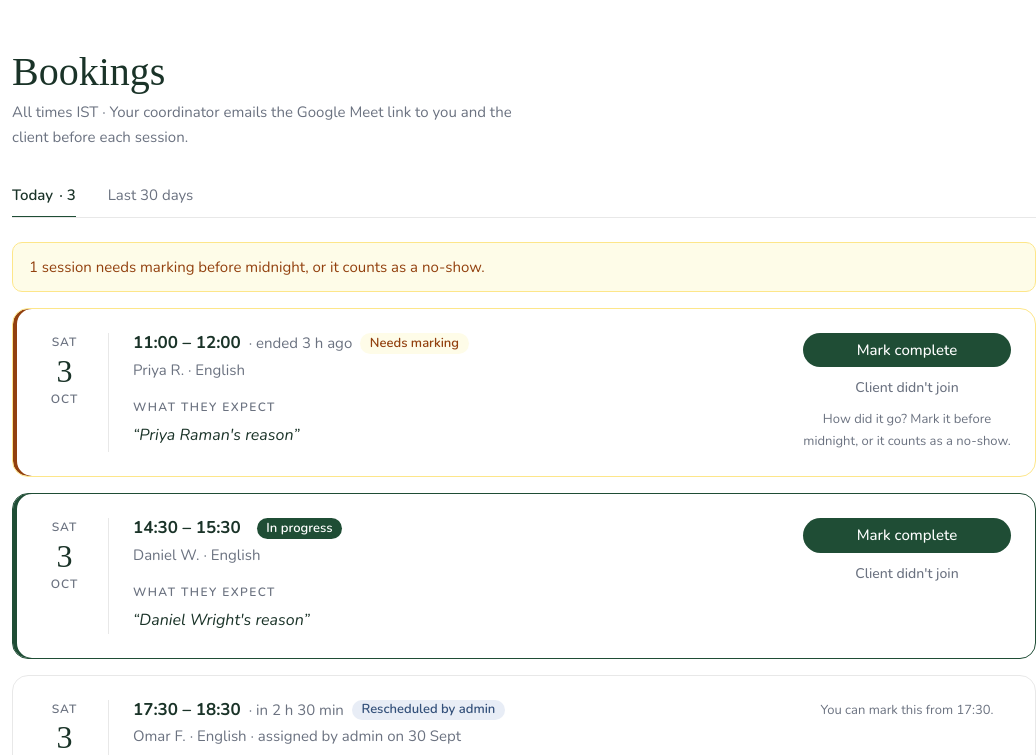
Test: BookingsPageComponent › records a client who did not join
The image size is (1036, 755).
Click the button with class "booking__no-show" in the row of "Priya R. · English".
click(907, 388)  # box [803,371,1011,405]
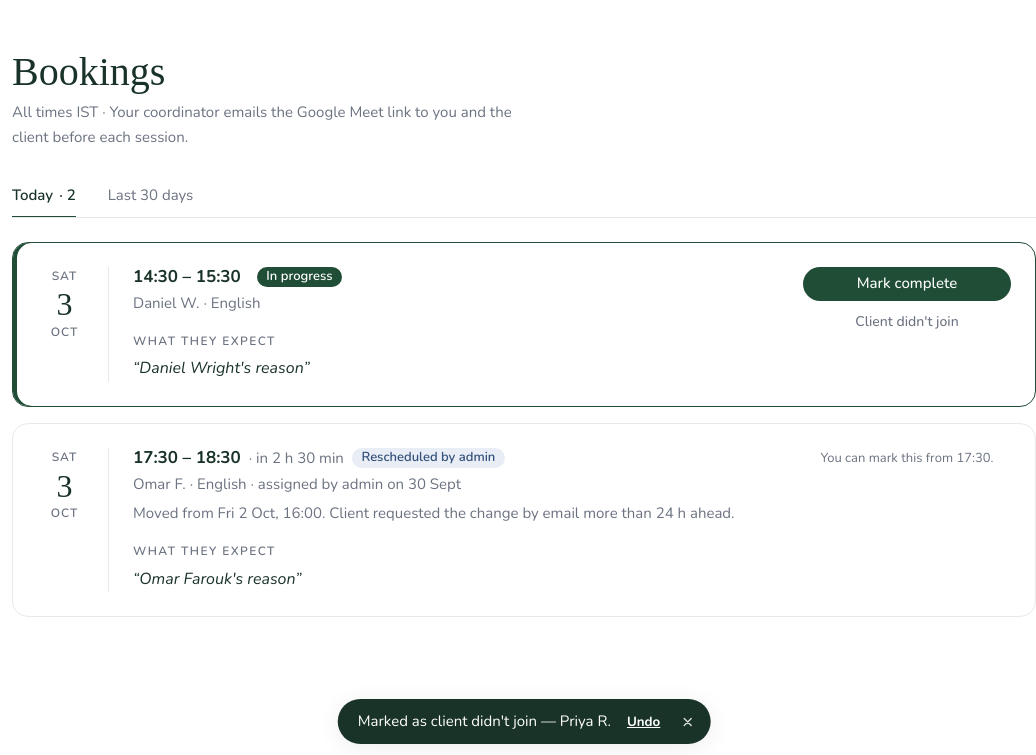
Click the tab "Last 30 days".
click(150, 196)  # box [108,174,193,218]
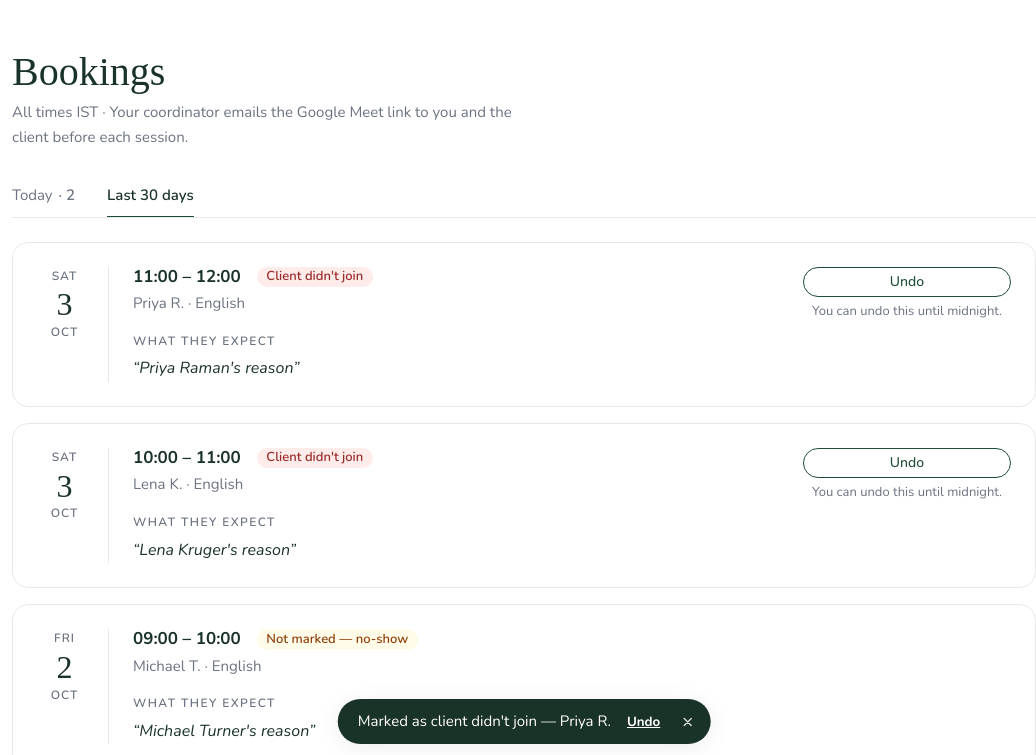
Expected: the text with class "badge" next to "11:00 – 12:00" reads "Client didn't join", [266,267,363,285]
